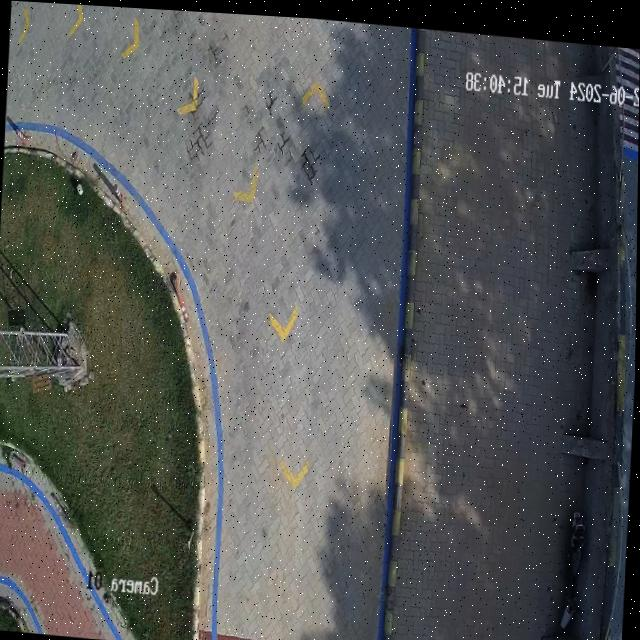No Car: (0, 1, 640, 640)
